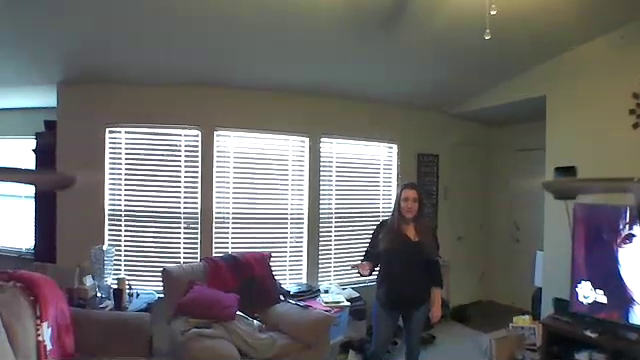land: (347, 259, 373, 282)
